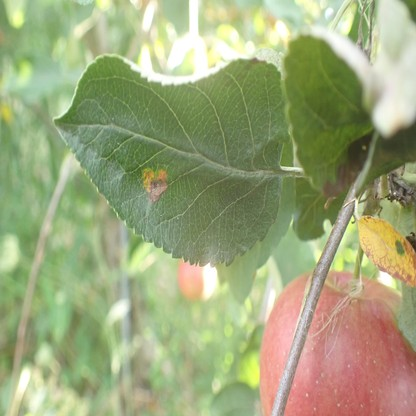rust: (140, 166, 167, 200)
